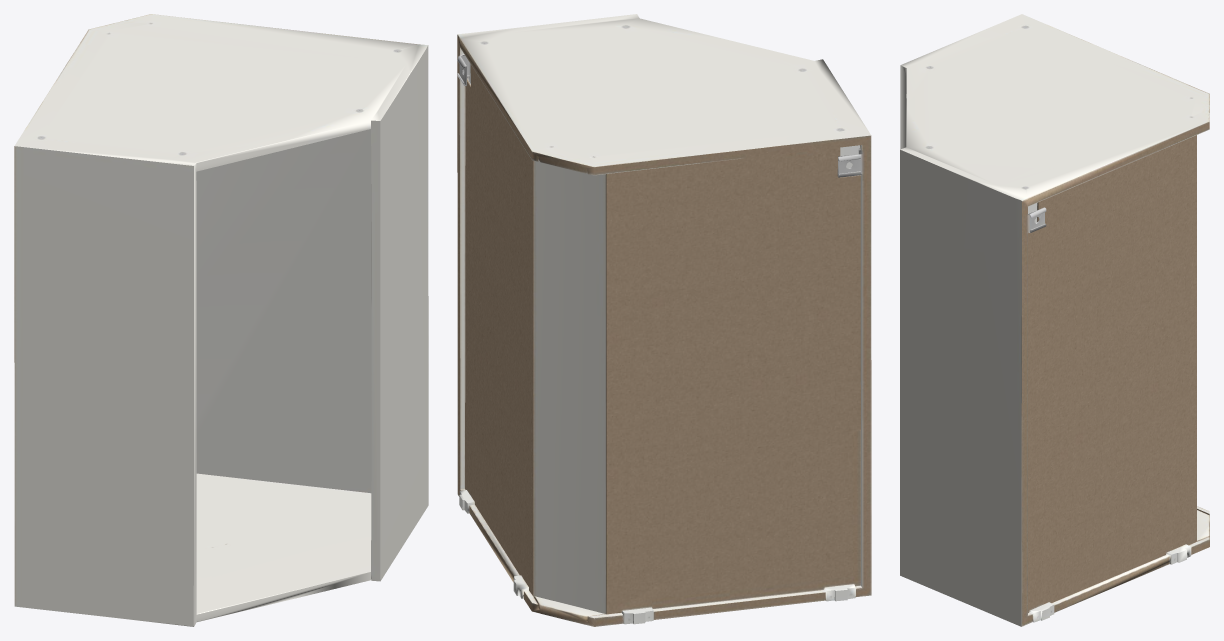
File: metod_narozna_szafka_wiszaca_70215281.glb
3 renders of one model, left to right at view 1: azimuth 30°, elevation 25°; view 2: azimuth 150°, elevation 25°; view 3: azimuth 270°, elevation 25°, orthographic. The views are drawn at different scales.
Parts seen in each view (by area): view 1: metod_narozna_szafka_wiszaca_70215281; view 2: metod_narozna_szafka_wiszaca_70215281; view 3: metod_narozna_szafka_wiszaca_70215281.
Boxes of the visible parts, x1=… form: metod_narozna_szafka_wiszaca_70215281: x1=14, y1=14, x2=428, y2=626; metod_narozna_szafka_wiszaca_70215281: x1=457, y1=14, x2=871, y2=626; metod_narozna_szafka_wiszaca_70215281: x1=900, y1=14, x2=1209, y2=626.
Size of the model in its own units: 0.9407 by 1 by 0.6591.
1 material, 1 textured.
